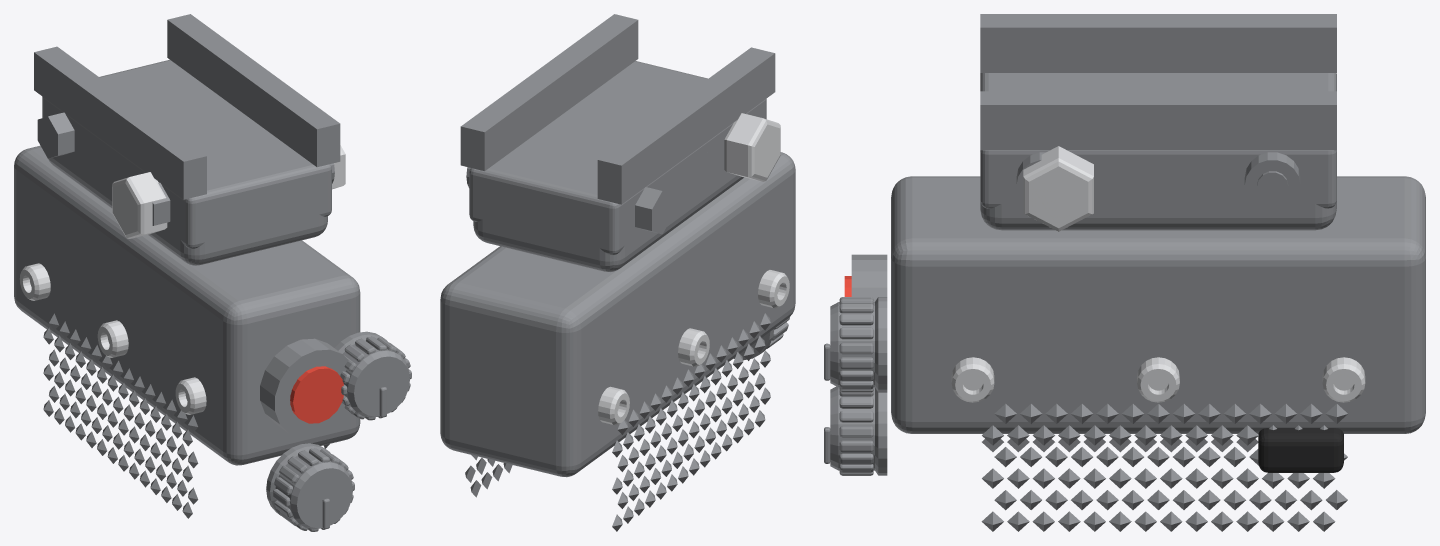
Rendered from mod-carbine-side-33384.glb.
3 renders of one model, left to right at view 1: azimuth 30°, elevation 25°; view 2: azimuth 150°, elevation 25°; view 3: azimuth 270°, elevation 25°, orthographic. The views are drawn at different scales.
Bounding box in the file's own units: 0.7954 × 1.33 × 1.68.
